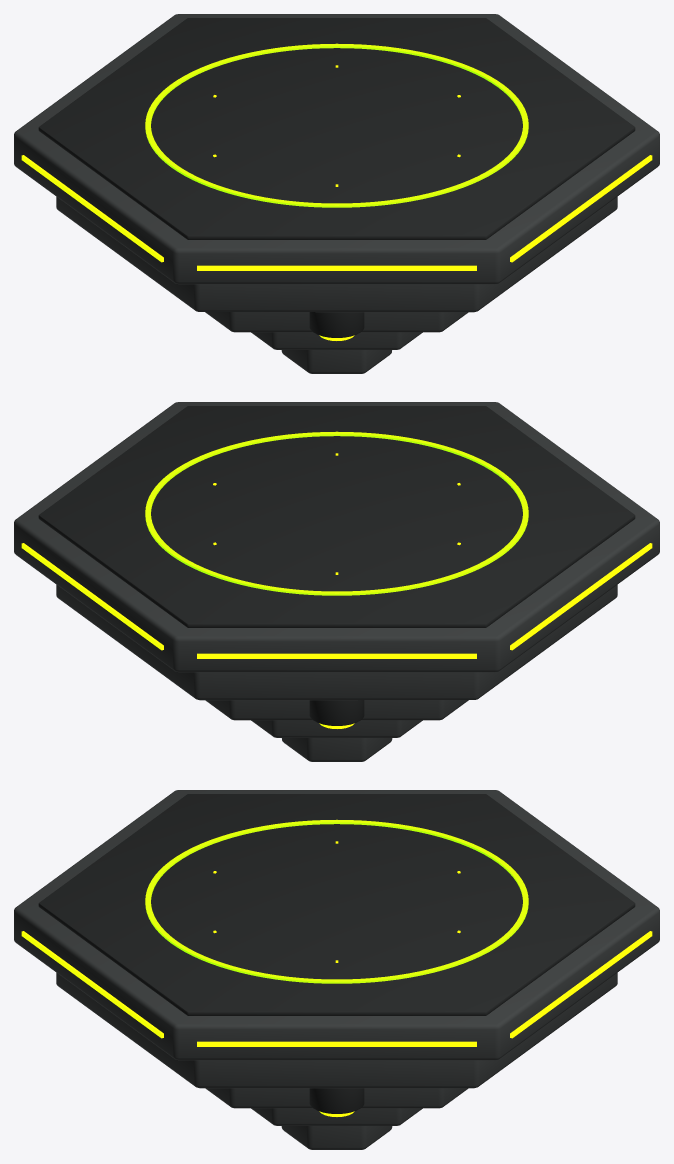
The model's file is platform.v2.glb.
3 renders of one model, top to bottom at view 1: azimuth 30°, elevation 25°; view 2: azimuth 150°, elevation 25°; view 3: azimuth 270°, elevation 25°, orthographic.
Visible parts, largest first — view 1: Platform_Deck, Platform_Body, Platform_Ring, Platform_Trim, Platform_Thrusters; view 2: Platform_Deck, Platform_Body, Platform_Ring, Platform_Trim, Platform_Thrusters; view 3: Platform_Deck, Platform_Body, Platform_Ring, Platform_Trim, Platform_Thrusters.
Part boxes in pixels (box(x1,y1,x2,y2)): Platform_Deck: box(38, 18, 635, 239); Platform_Body: box(14, 14, 659, 373); Platform_Ring: box(145, 43, 528, 207); Platform_Trim: box(21, 65, 652, 270); Platform_Thrusters: box(309, 312, 364, 337); Platform_Deck: box(38, 406, 635, 627); Platform_Body: box(14, 402, 659, 761); Platform_Ring: box(145, 431, 528, 595); Platform_Trim: box(21, 453, 652, 658); Platform_Thrusters: box(309, 700, 364, 725); Platform_Deck: box(38, 794, 635, 1015); Platform_Body: box(14, 790, 659, 1149); Platform_Ring: box(145, 819, 528, 983); Platform_Trim: box(21, 841, 652, 1046); Platform_Thrusters: box(309, 1088, 364, 1113).
Size of the model in its own units: 4.02 by 1.85 by 4.58.
